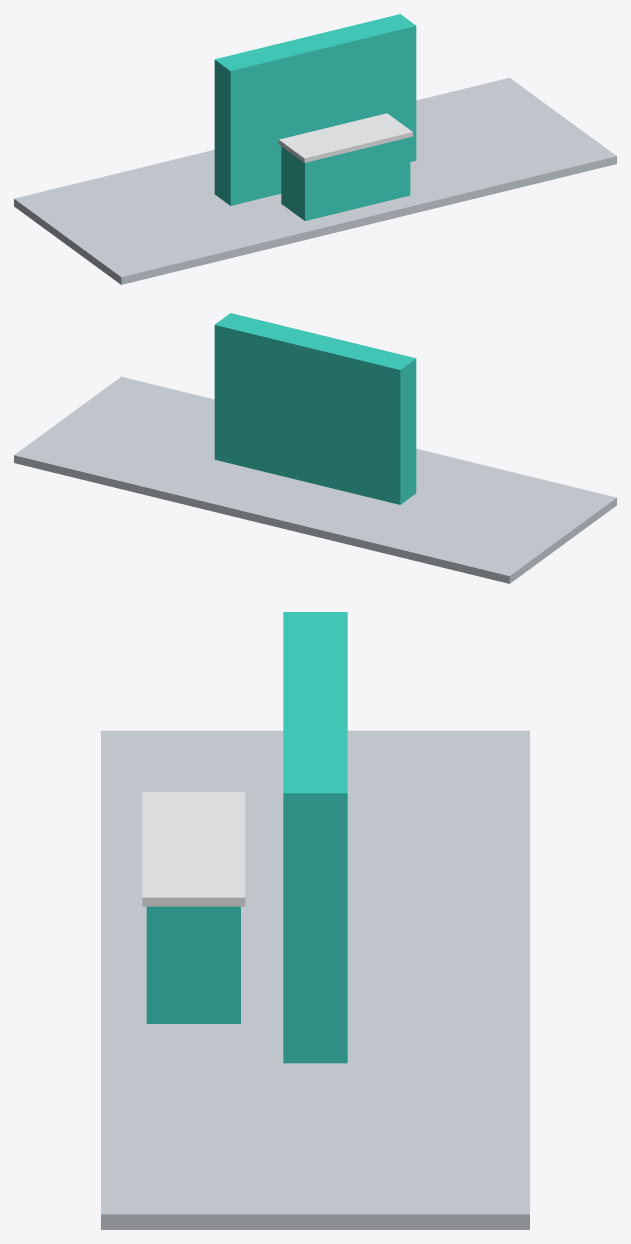
3 renders of one model, top to bottom at view 1: azimuth 30°, elevation 25°; view 2: azimuth 150°, elevation 25°; view 3: azimuth 270°, elevation 25°, orthographic. The views are drawn at different scales.
Visible parts, largest first — view 1: Exhibition Booth Concept; view 2: Exhibition Booth Concept; view 3: Exhibition Booth Concept.
Part boxes in pixels (left/top/right/bottom): Exhibition Booth Concept: left=14, top=14, right=616, bottom=284; Exhibition Booth Concept: left=14, top=313, right=616, bottom=583; Exhibition Booth Concept: left=101, top=612, right=529, bottom=1229.
Size of the model in its own units: 8 by 2.2 by 3.
